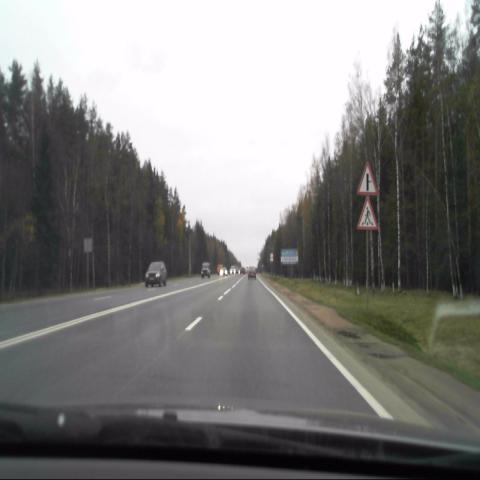1_22: (357, 197, 378, 230)
2_3_2: (357, 161, 378, 196)
